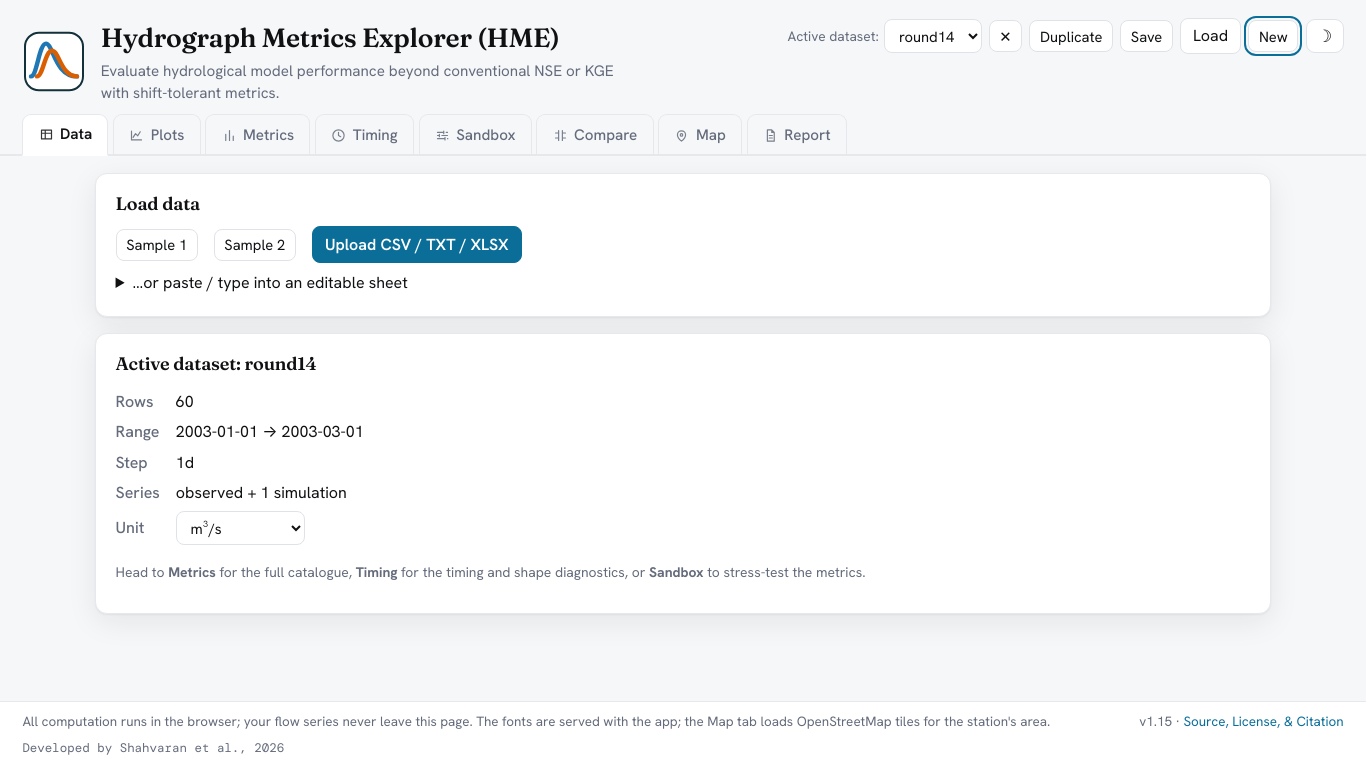
Test case: the confirmation dialog › New asks through an accessible modal: focus inside, Tab wraps, Escape cancels and returns focus, confirm clears
Click the button "New" at {"x": 1273, "y": 36}, box [1248, 20, 1298, 52]
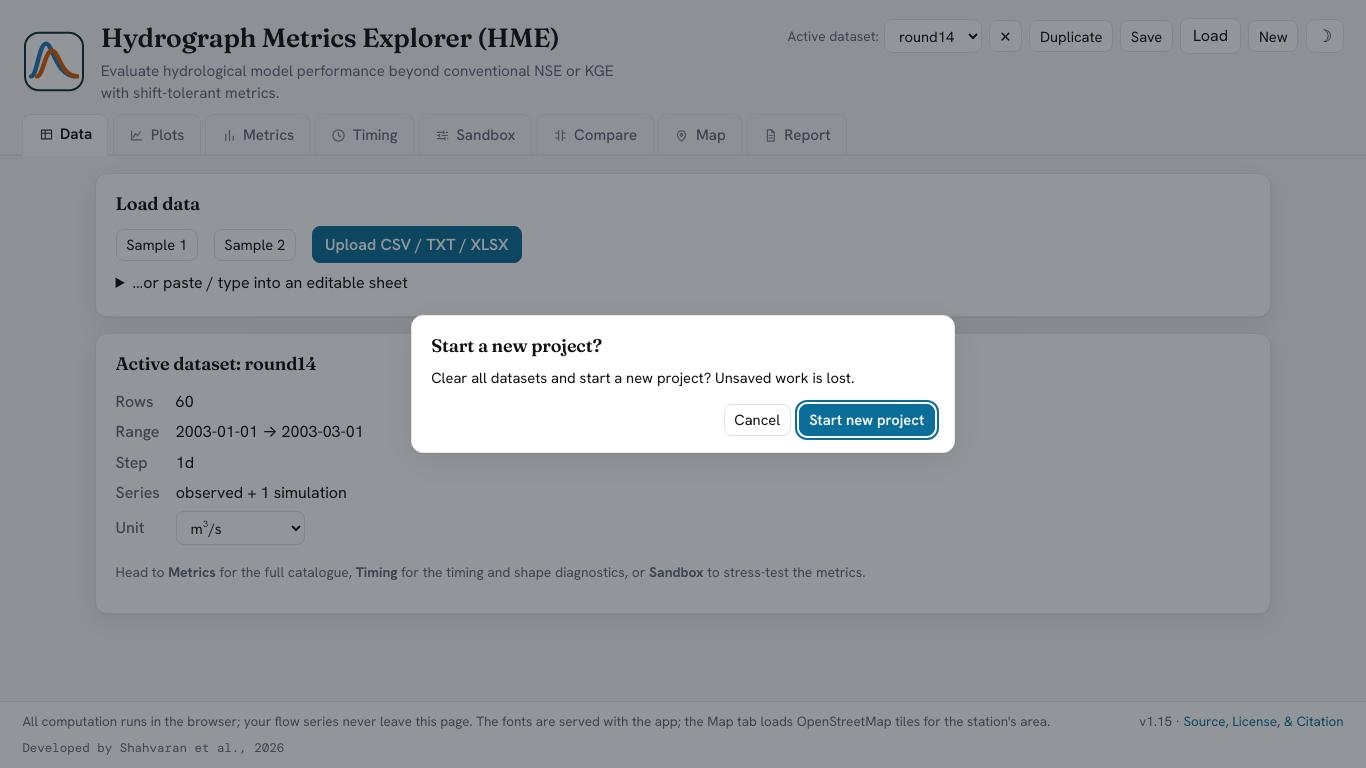
Result: the text "Clear all datasets and start a new project? Unsaved work is lost." is shown at [431, 368, 854, 387]
Press Tab
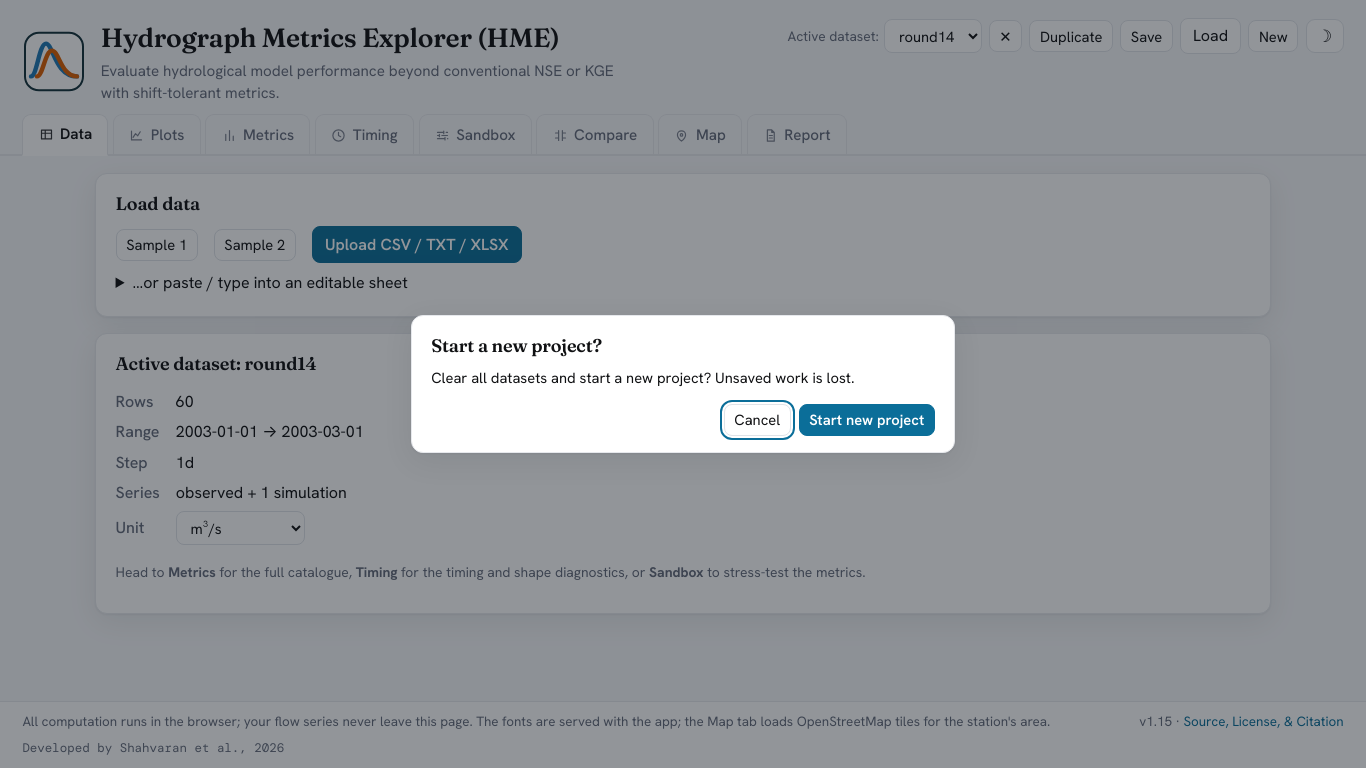
Press Tab
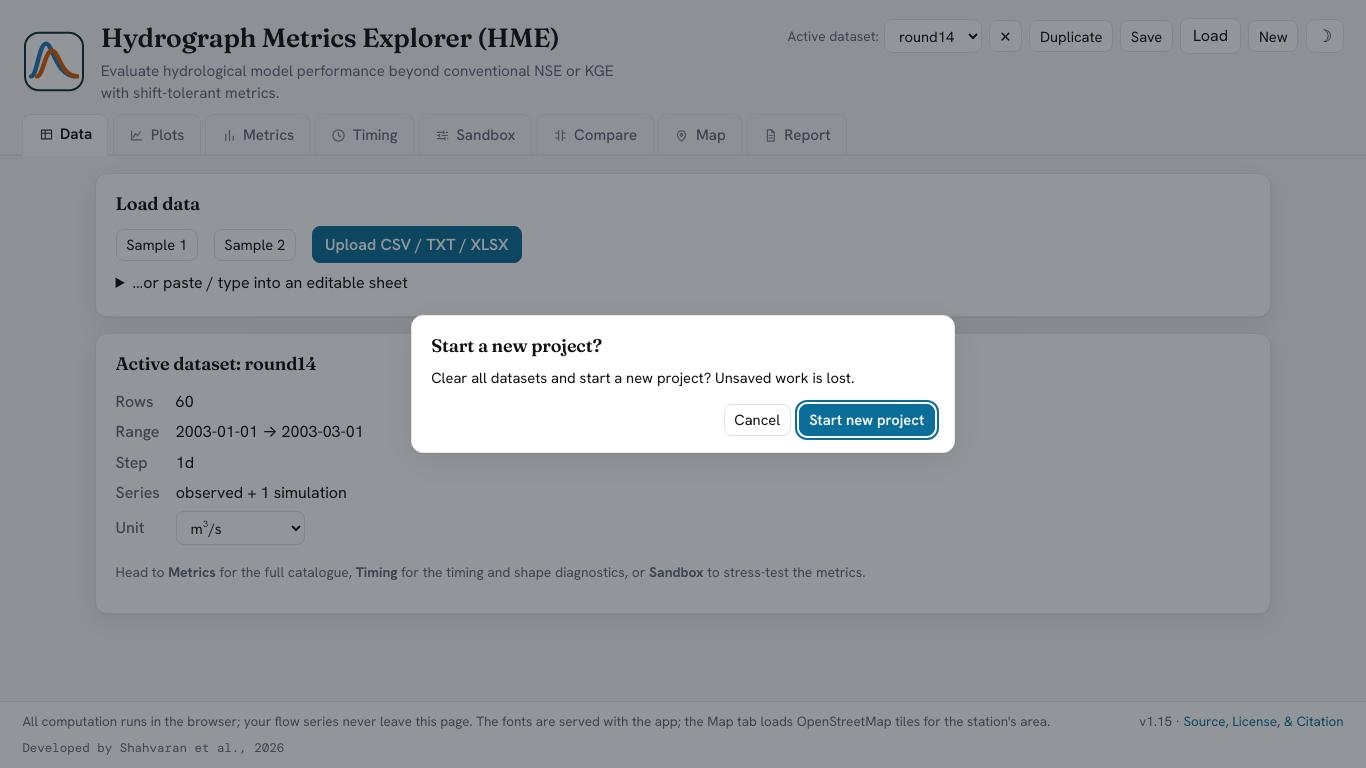
Press Escape
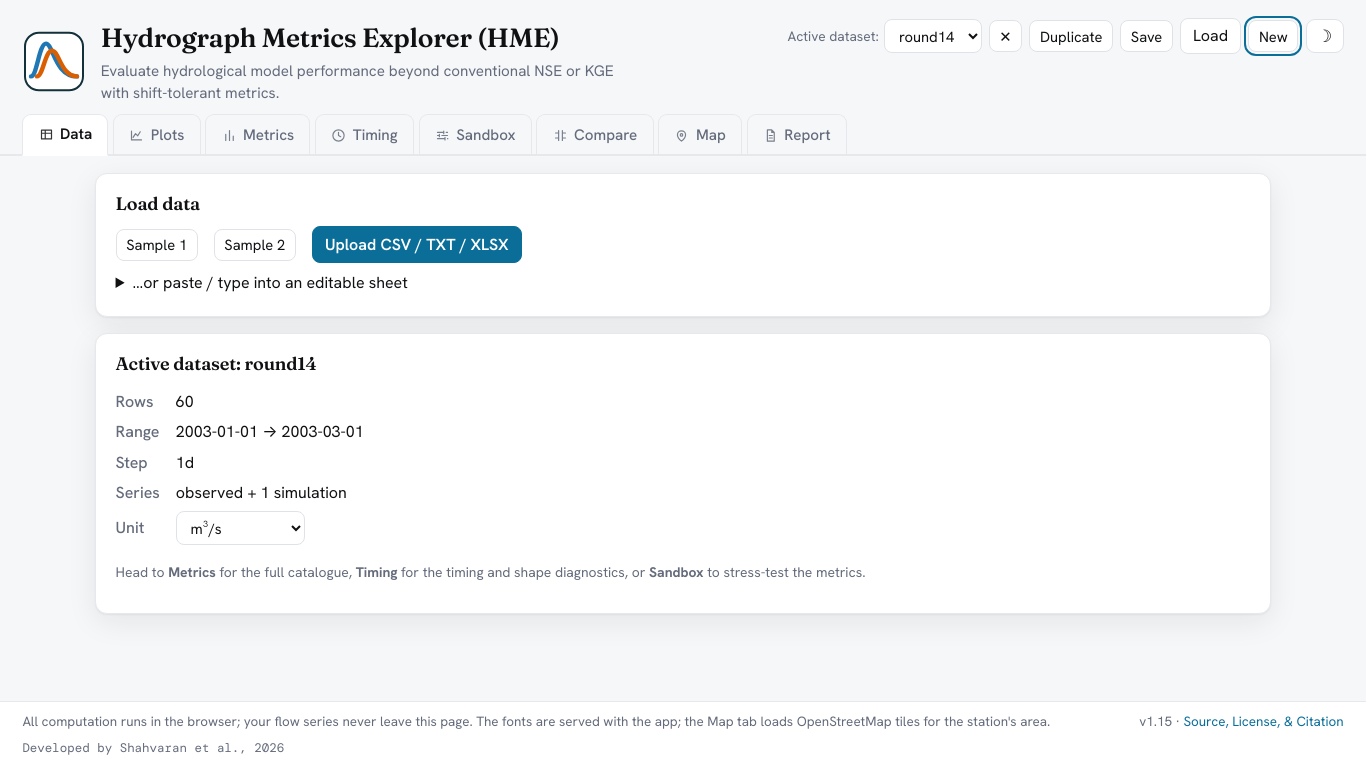
Result: the dialog is gone
Click the button "New" at {"x": 1273, "y": 36}, box [1248, 20, 1298, 52]
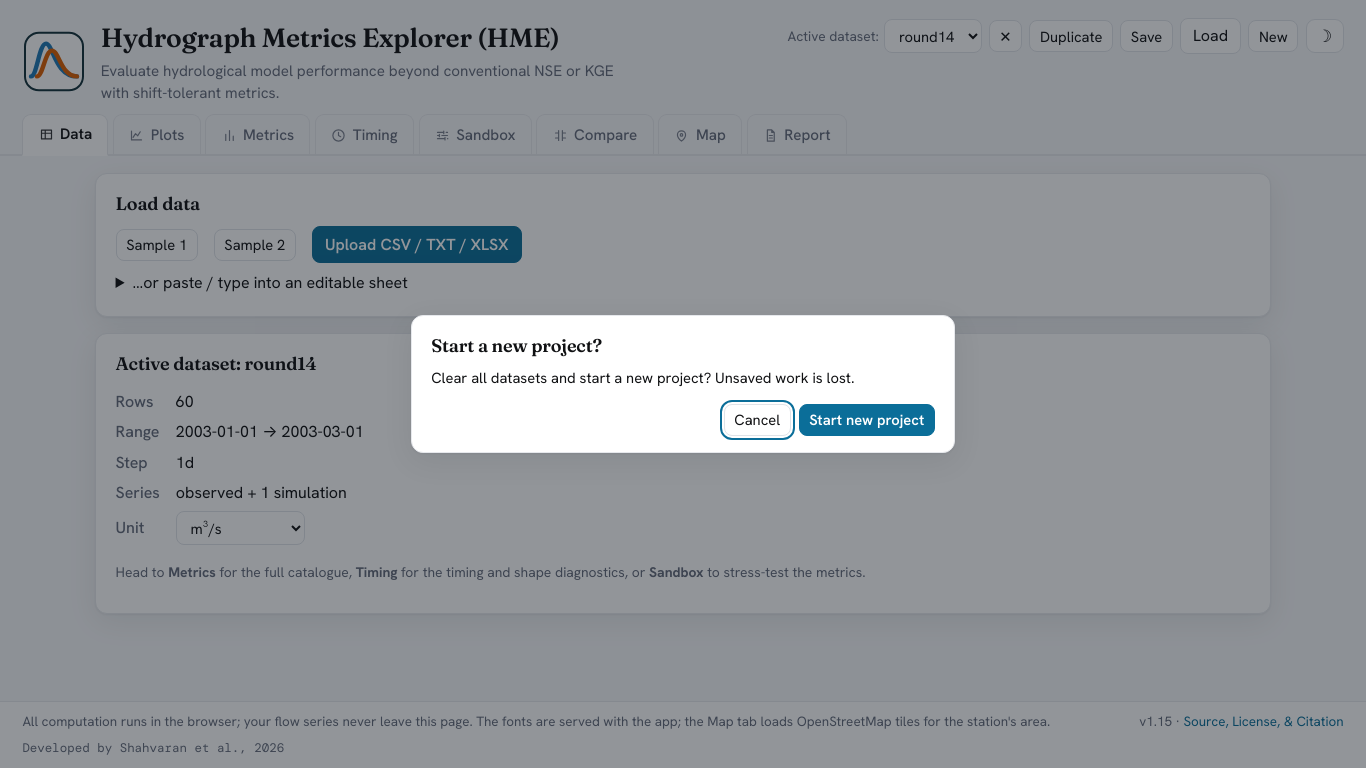
Click the button "Start new project" at {"x": 867, "y": 420}, box [799, 404, 935, 436]
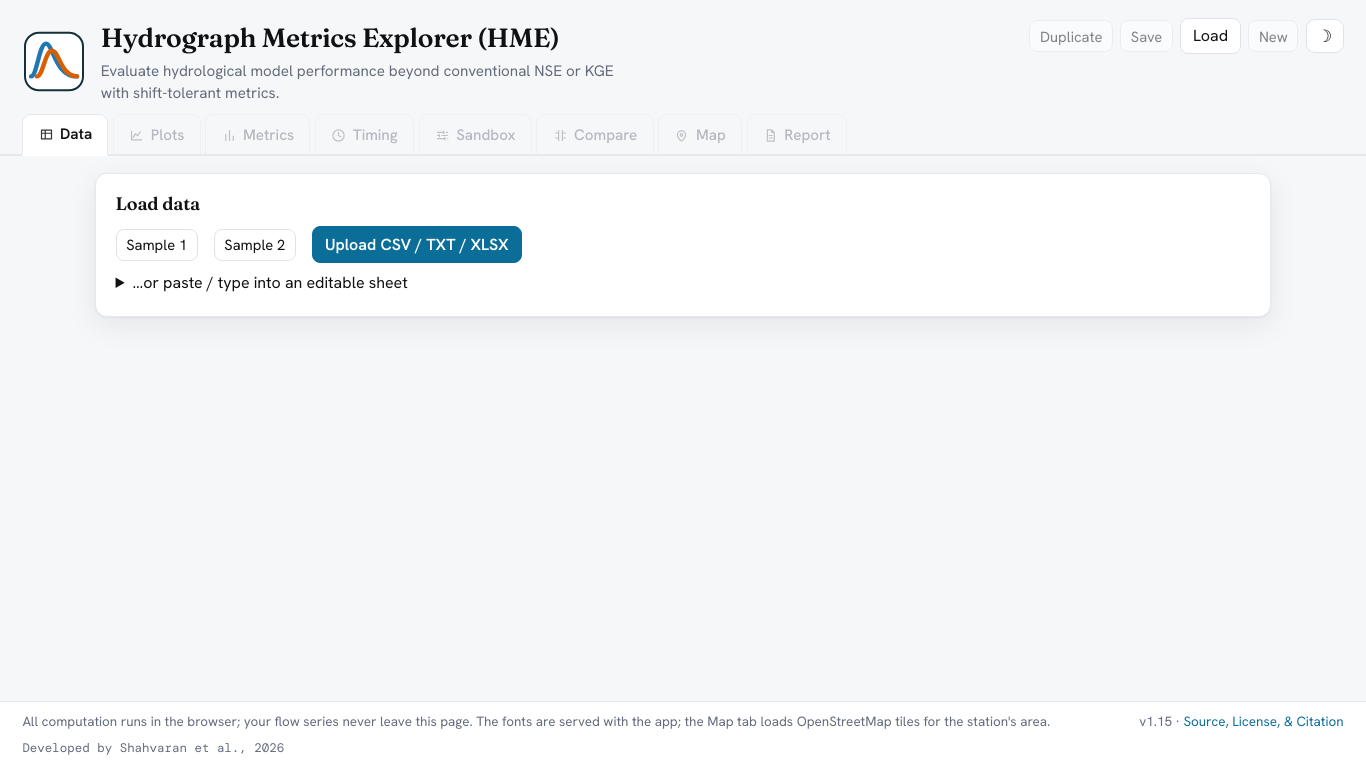
Result: the dialog is gone
